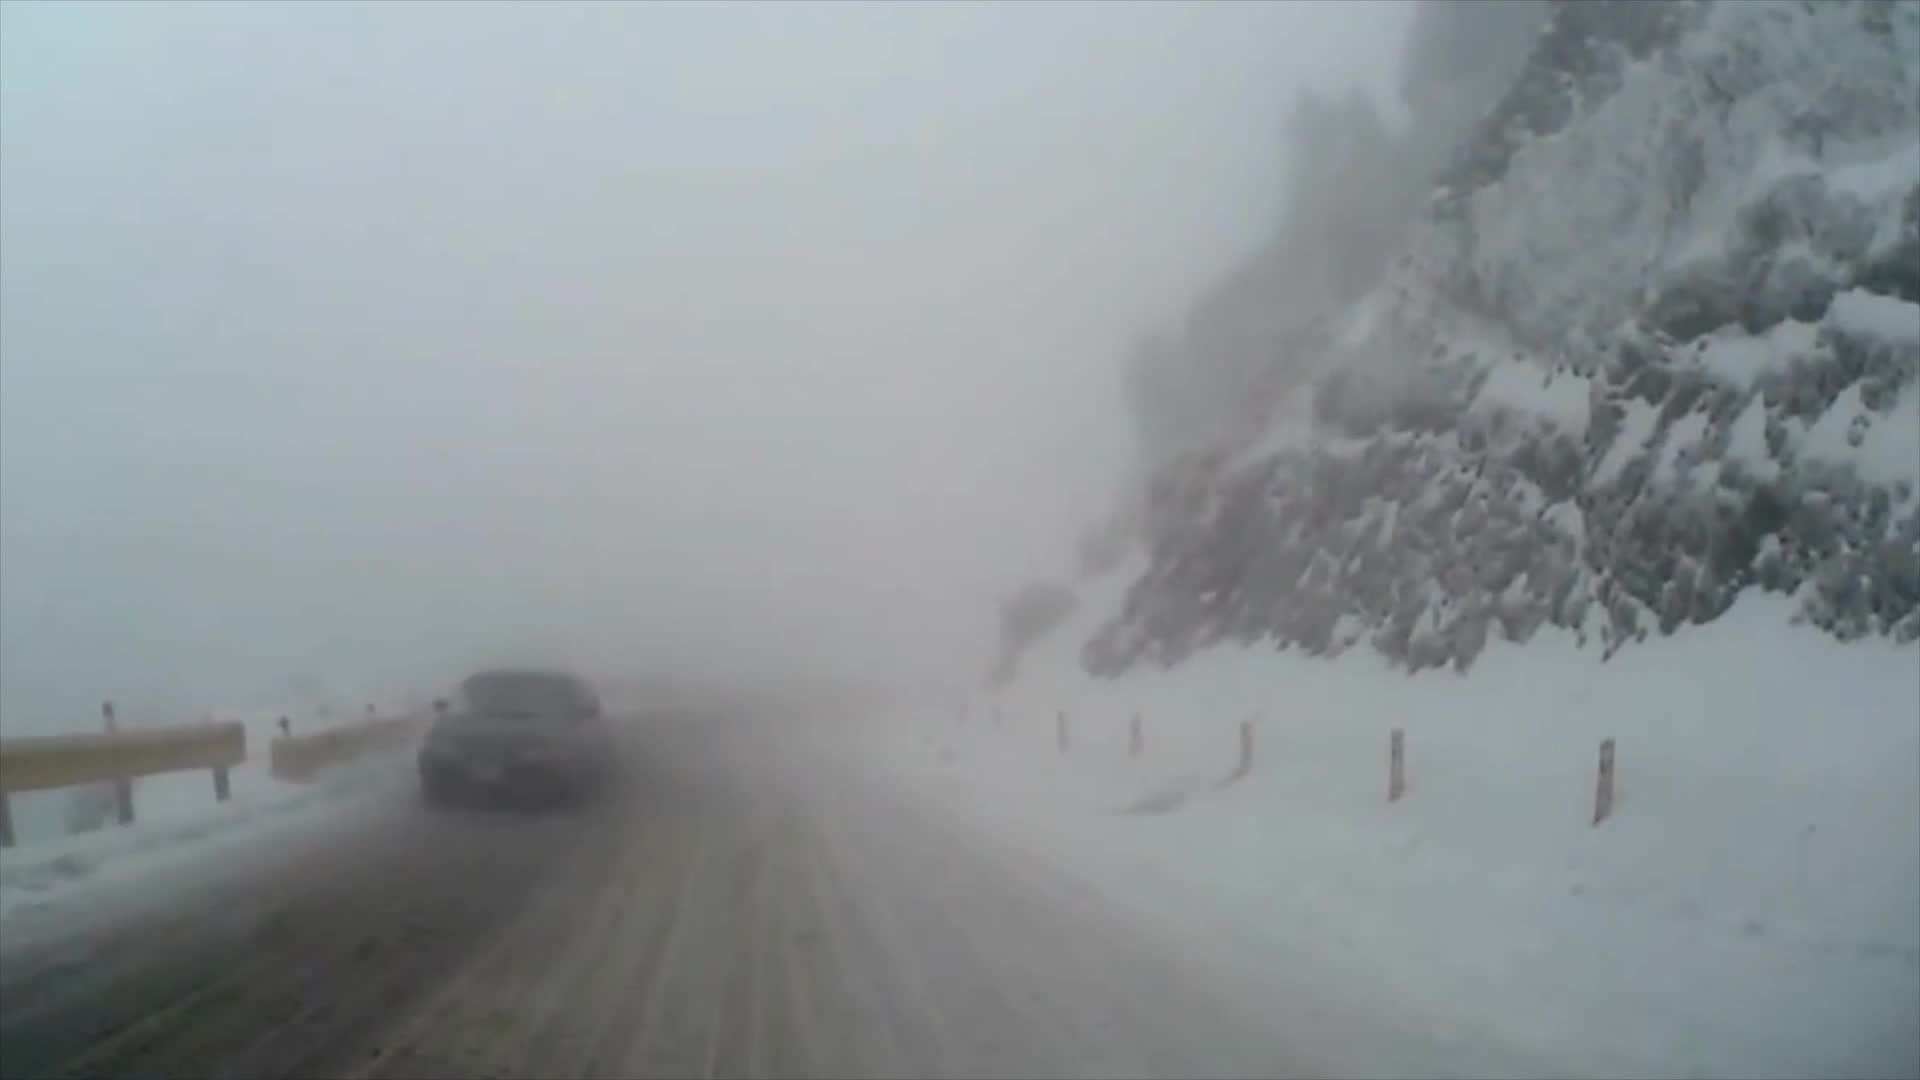vehicle: (415, 665, 615, 811)
